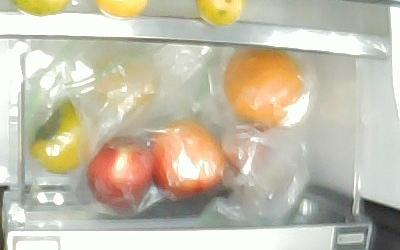apple_vinyl: (148, 119, 227, 198), (86, 136, 155, 210)
grapefruit_vinyl: (222, 48, 305, 132)
persimmon_vinyl: (29, 100, 93, 175)
